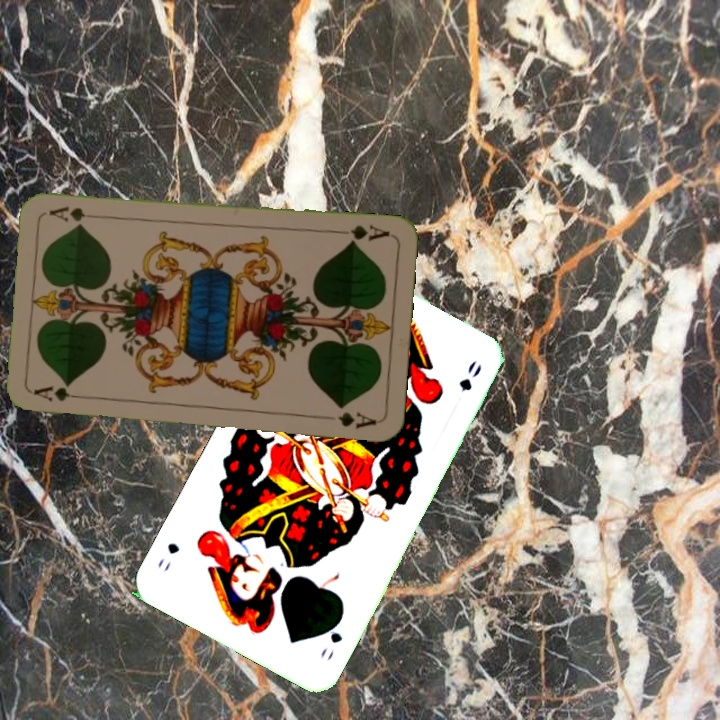GA: (333, 221, 392, 246), (30, 382, 89, 405)
GO: (316, 612, 345, 662)
